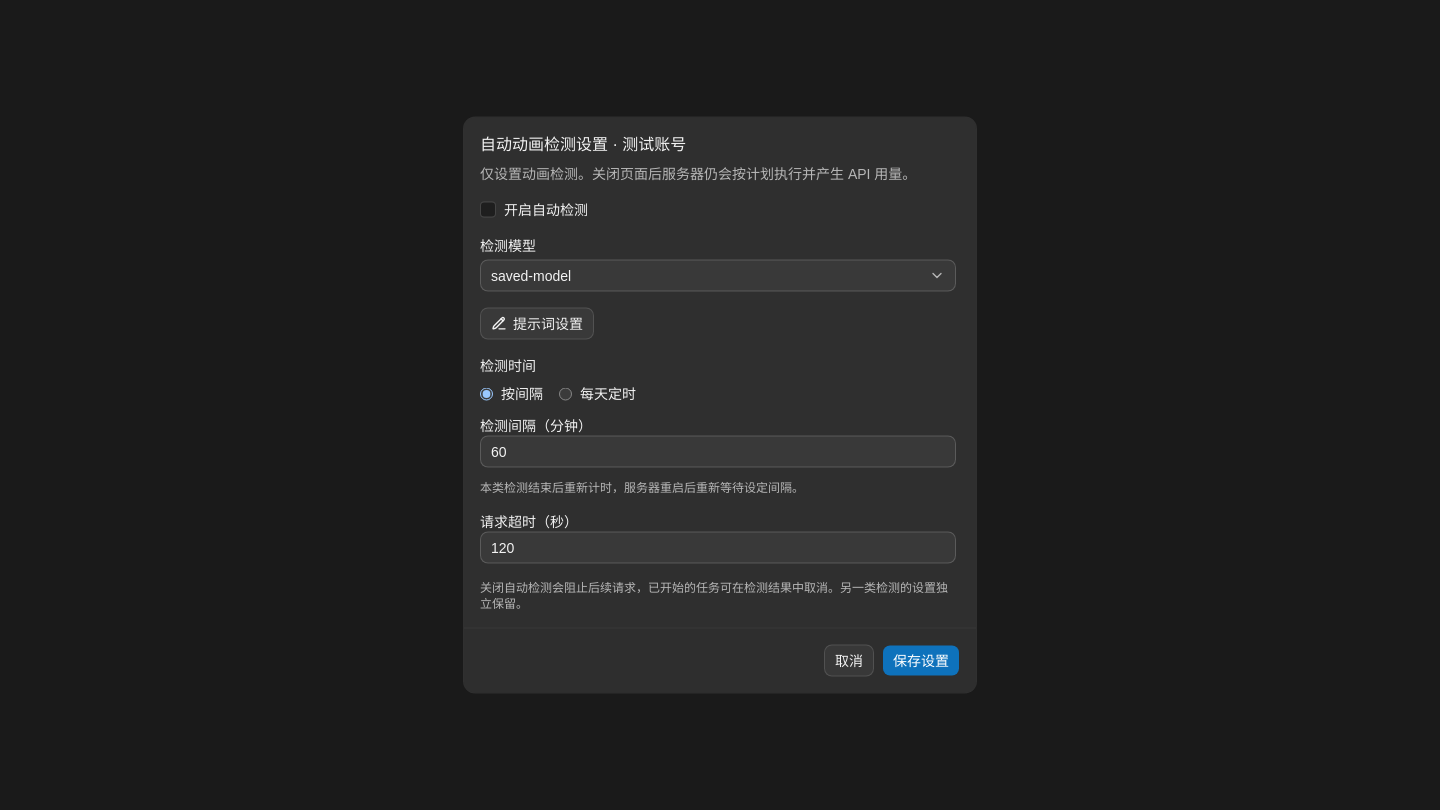
Test: 关闭自动检测的保存请求等待时不能关闭编辑，失败后恢复并保留输入
This screenshot has width=1440, height=810.
Replace the text in the number field labelled "检测间隔（分钟）" with "90" at (718, 452), box [480,436,956,468]
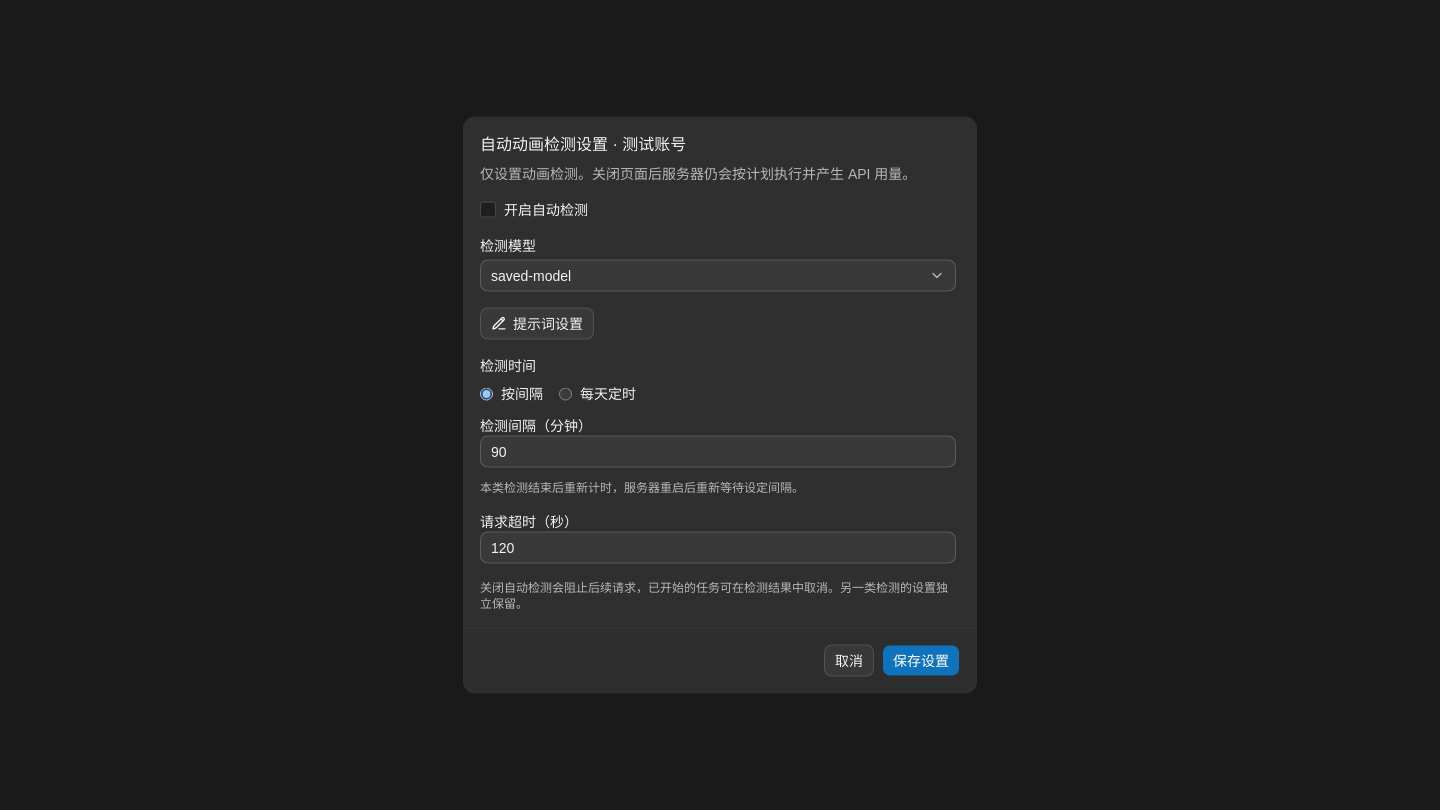
Click the button "保存设置" at (921, 660), box [882,644,960,676]
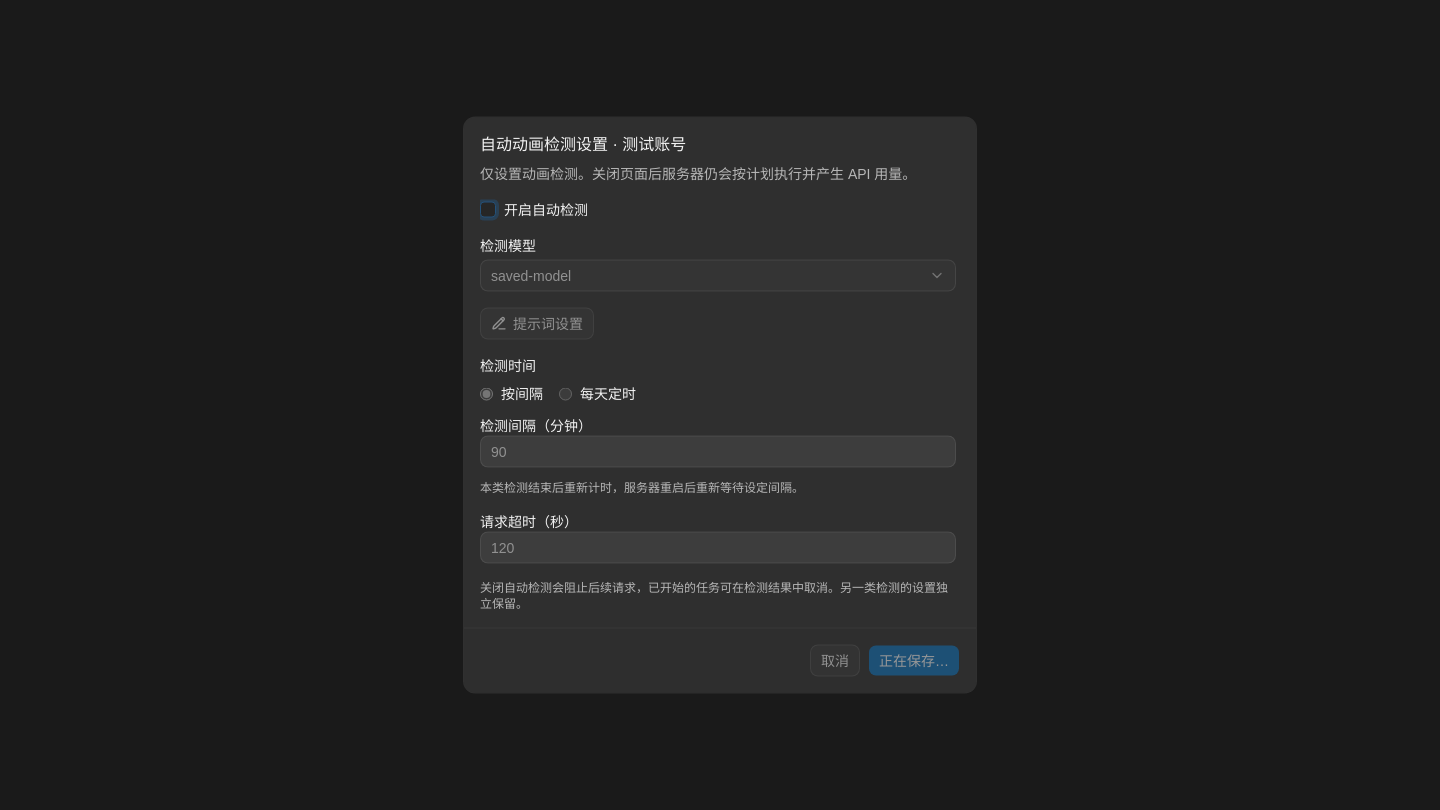
Expected: the button "正在保存…" is disabled, [868,644,960,676]
Expected: the button "取消" is disabled, [810,644,860,676]
Press Escape
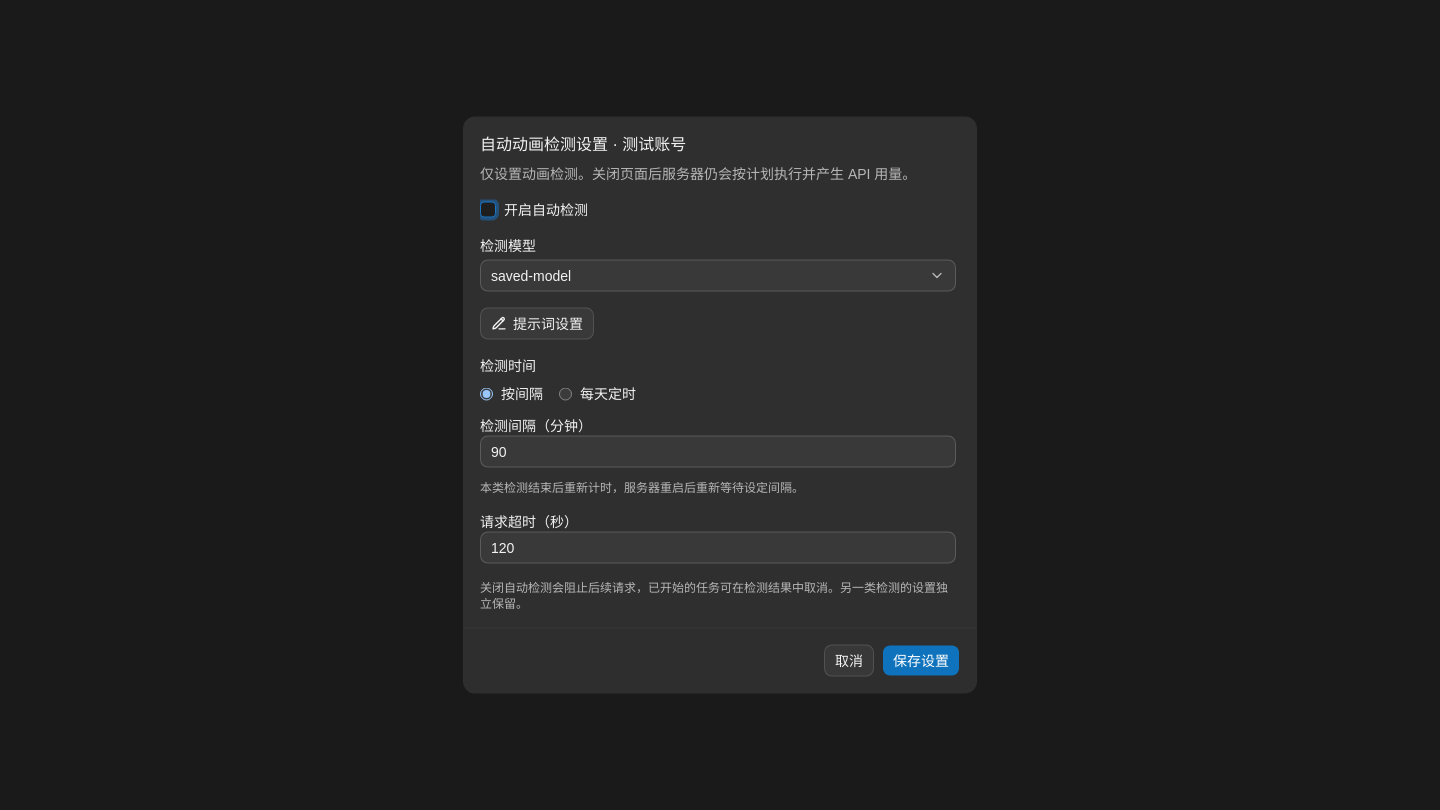
Expected: the dropdown named "检测模型" reads "saved-model", [480,260,956,292]
Expected: the button "取消" is enabled, [824,644,874,676]
